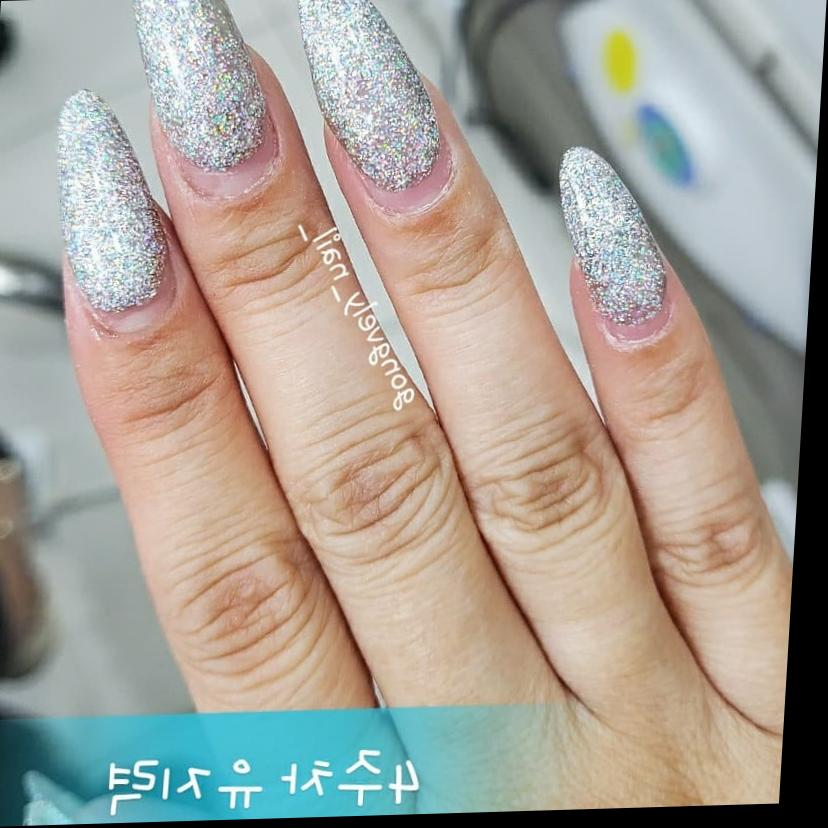nail: (283, 0, 467, 220), (44, 82, 185, 329), (547, 139, 686, 348), (118, 0, 278, 176)
